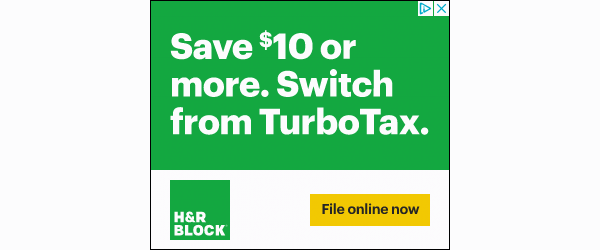fake_button: (301, 178, 435, 234)
